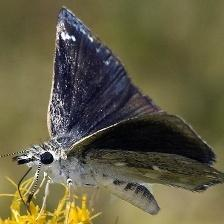butterfly: (14, 8, 224, 214)
